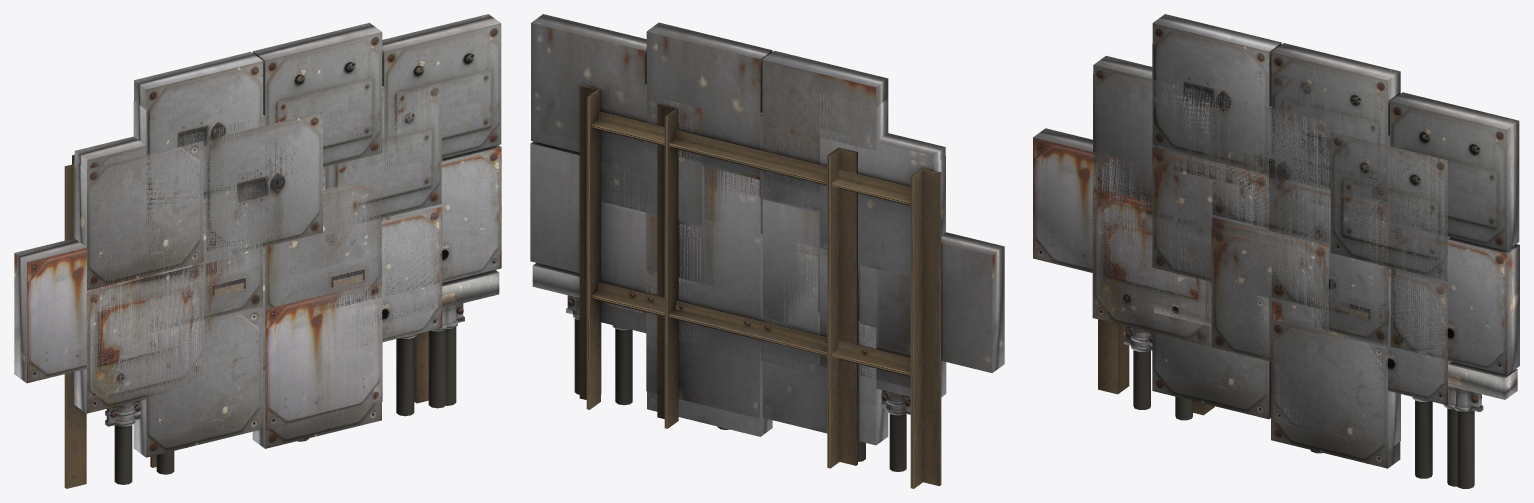
Rendered from fuse_box_0009.fbx.
3 views of the same model, side by side, from view 1: azimuth 30°, elevation 25°; view 2: azimuth 150°, elevation 25°; view 3: azimuth 330°, elevation 25° (orthographic). The views are drawn at different scales.
Parts seen in each view (by area): view 1: Mesh, Mesh_ncl1_1, Mesh_ncl1_2, Mesh_ncl1_4, Mesh_ncl1_3; view 2: Mesh_ncl1_1, Mesh_ncl1_2, Mesh, Mesh_ncl1_4; view 3: Mesh_ncl1_2, Mesh_ncl1_1, Mesh, Mesh_ncl1_4, Mesh_ncl1_3.
Boxes of the visible parts, left/top/right/bottom form: Mesh: left=64, top=83, right=442, bottom=488; Mesh_ncl1_1: left=133, top=23, right=382, bottom=467; Mesh_ncl1_2: left=14, top=14, right=501, bottom=448; Mesh_ncl1_4: left=74, top=86, right=442, bottom=483; Mesh_ncl1_3: left=297, top=300, right=446, bottom=441; Mesh_ncl1_1: left=646, top=22, right=888, bottom=468; Mesh_ncl1_2: left=530, top=14, right=1004, bottom=436; Mesh: left=579, top=81, right=946, bottom=488; Mesh_ncl1_4: left=589, top=72, right=945, bottom=470; Mesh_ncl1_2: left=1033, top=44, right=1519, bottom=488; Mesh_ncl1_1: left=1152, top=14, right=1400, bottom=450; Mesh: left=1092, top=74, right=1451, bottom=419; Mesh_ncl1_4: left=1093, top=55, right=1450, bottom=463; Mesh_ncl1_3: left=1310, top=386, right=1457, bottom=486.
Size of the model in its own units: 109 by 86.34 by 9.55.
